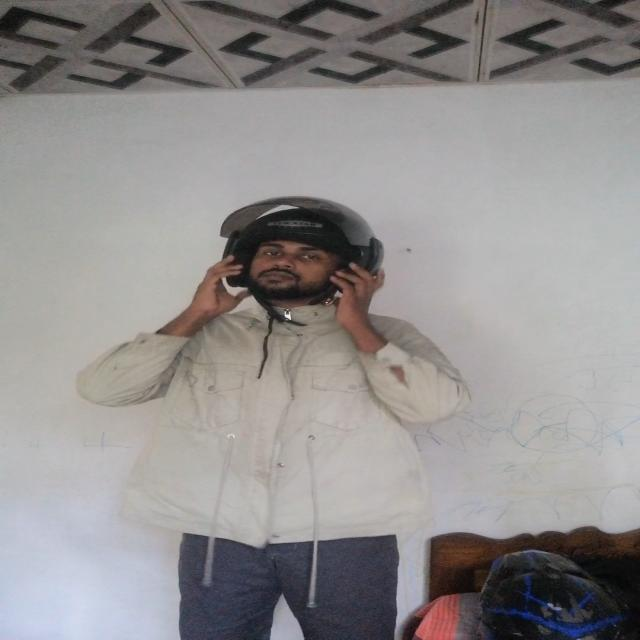Helmet_Wearer: (182, 192, 396, 318)
Jacket_Wearer: (104, 297, 464, 528)
Person: (90, 195, 457, 640)
